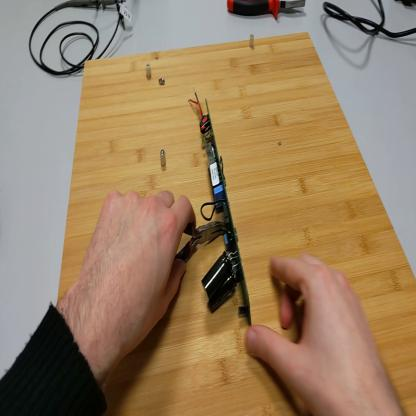hand: (247, 253, 394, 416), (75, 188, 194, 359)
high voltage board: (188, 90, 250, 323)
oscilloscope probe tip: (66, 2, 127, 10)
pliers: (178, 218, 231, 259), (228, 1, 306, 22)
working area: (59, 34, 415, 415)
